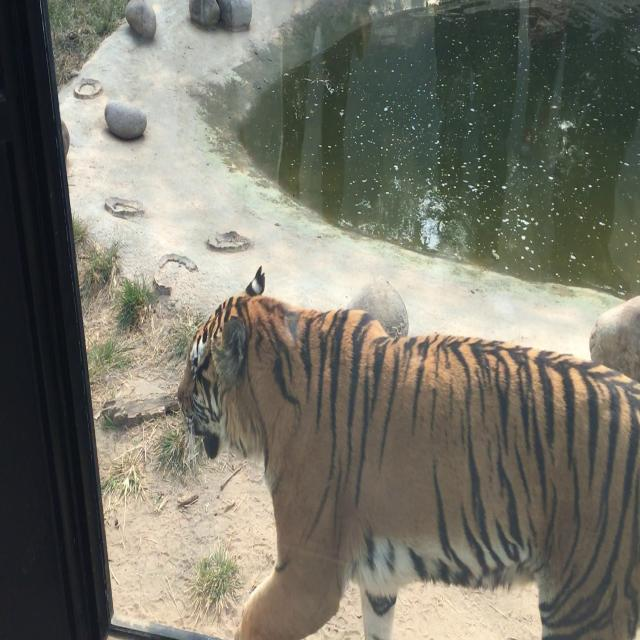Tiger: (168, 251, 637, 639)
